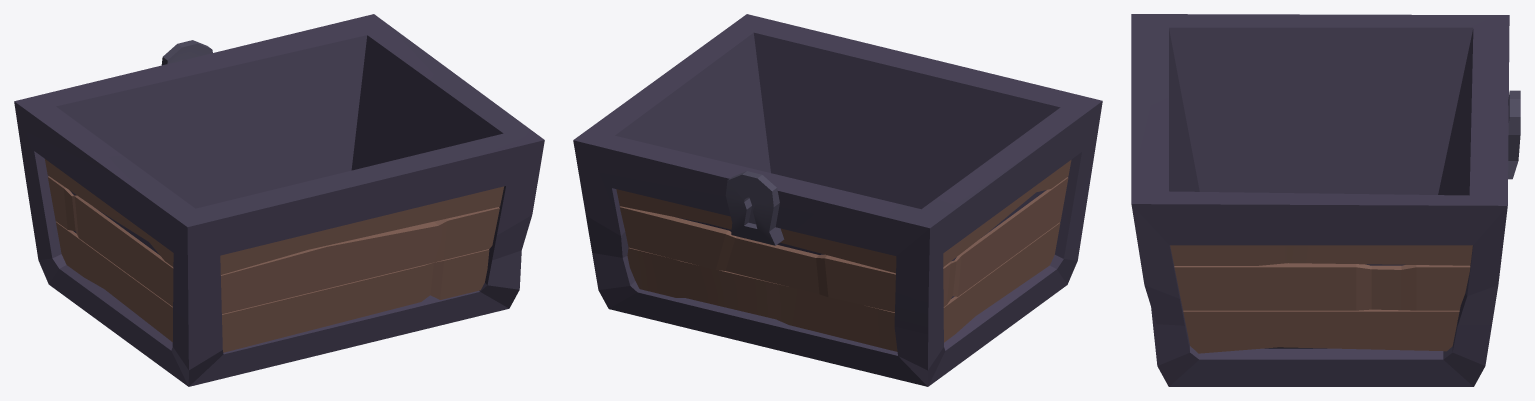
Rendered from Chest.fbx.
3 views of the same model, side by side, from view 1: azimuth 30°, elevation 25°; view 2: azimuth 150°, elevation 25°; view 3: azimuth 270°, elevation 25° (orthographic). The views are drawn at different scales.
Parts seen in each view (by area): view 1: Chest; view 2: Chest; view 3: Chest.
Part boxes in pixels (x1,y1,x2,y2): Chest: [14, 14, 544, 386]; Chest: [573, 14, 1102, 386]; Chest: [1131, 14, 1520, 386].
Bounding box in the file's own units: 337 × 169 × 290.
